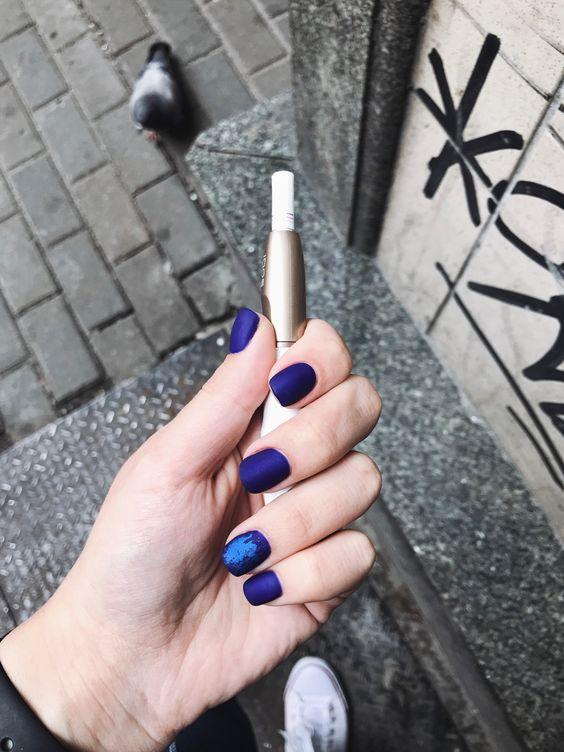iqos: (262, 170, 307, 436)
